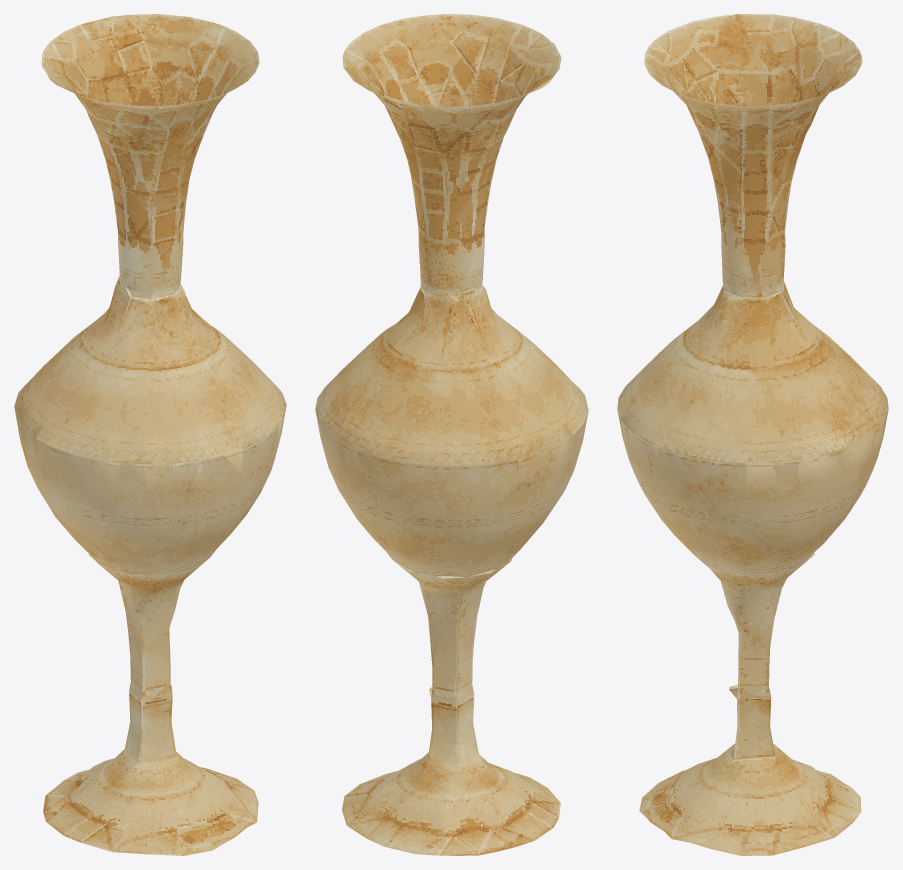
Rendered from brass_vase_01.glb.
3 views of the same model, side by side, from view 1: azimuth 30°, elevation 25°; view 2: azimuth 150°, elevation 25°; view 3: azimuth 270°, elevation 25° (orthographic).
Parts seen in each view (by area): view 1: mesh; view 2: mesh; view 3: mesh.
Boxes of the visible parts, x1,y1,x2,y2 form: mesh: (14, 14, 286, 855); mesh: (315, 14, 588, 855); mesh: (617, 14, 888, 855).
Bounding box in the file's own units: 20.48 × 62.32 × 20.48.
Materials: 1 (1 with a texture image).
